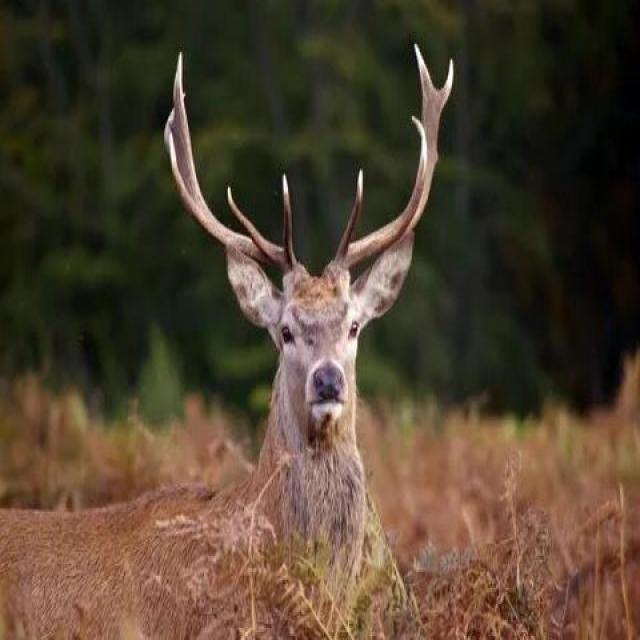deer: (181, 135, 439, 542)
